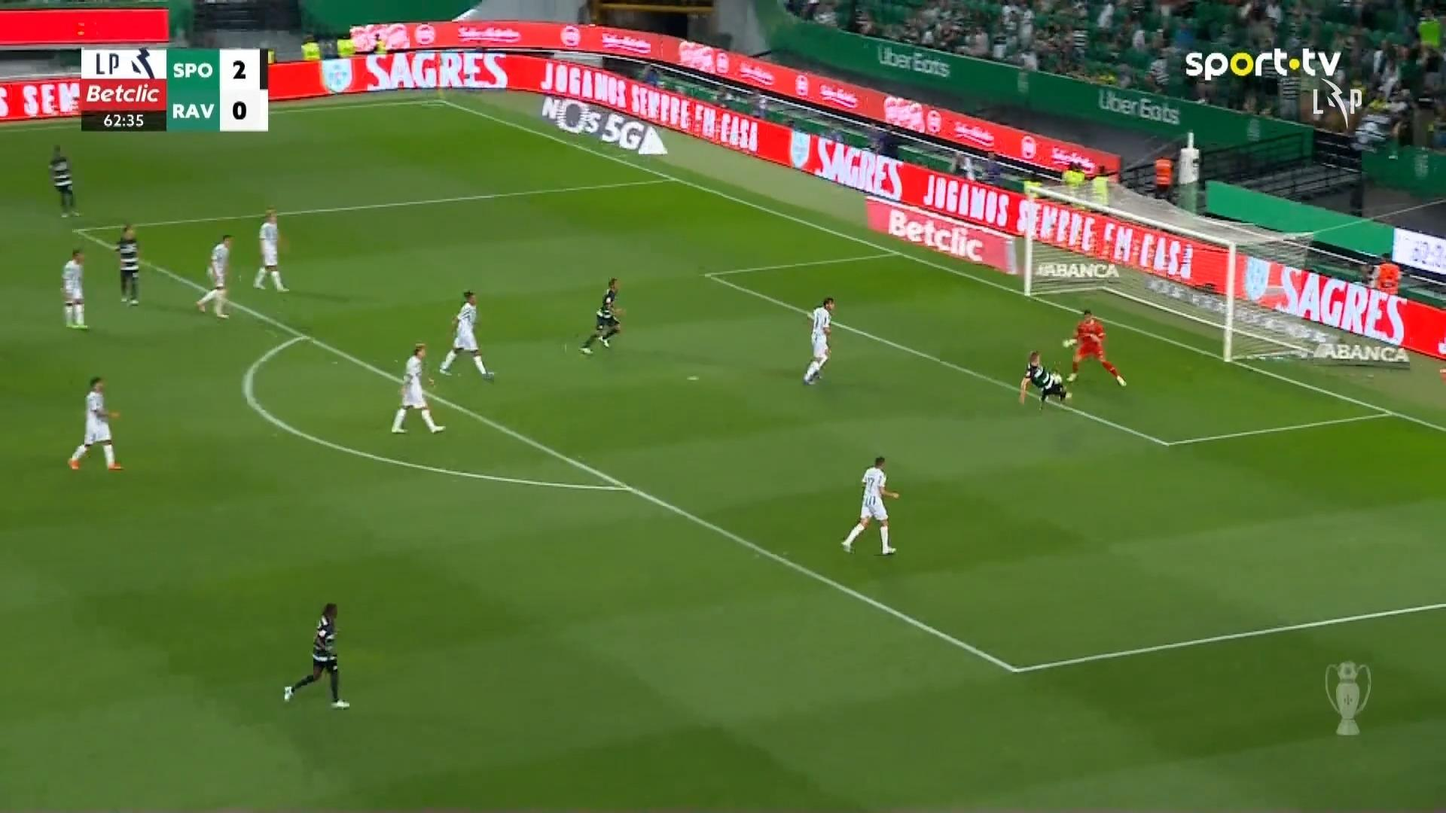goalkeeper: (1062, 308, 1126, 387)
player: (282, 601, 350, 708), (840, 455, 900, 555), (67, 376, 124, 470), (438, 289, 495, 382), (389, 342, 446, 434), (578, 276, 623, 355), (194, 233, 233, 318), (1017, 350, 1071, 411), (252, 207, 289, 292), (801, 297, 835, 385), (47, 143, 80, 218), (60, 248, 88, 329), (114, 221, 140, 306)
